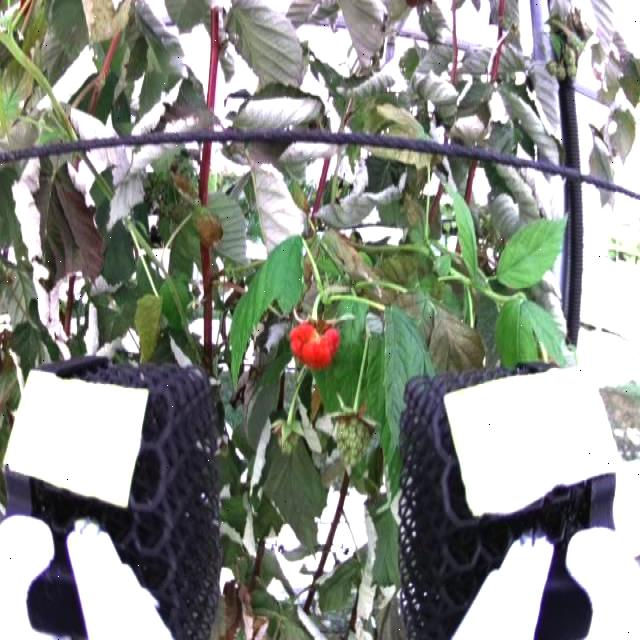Riped berries: (287, 316, 341, 371)
